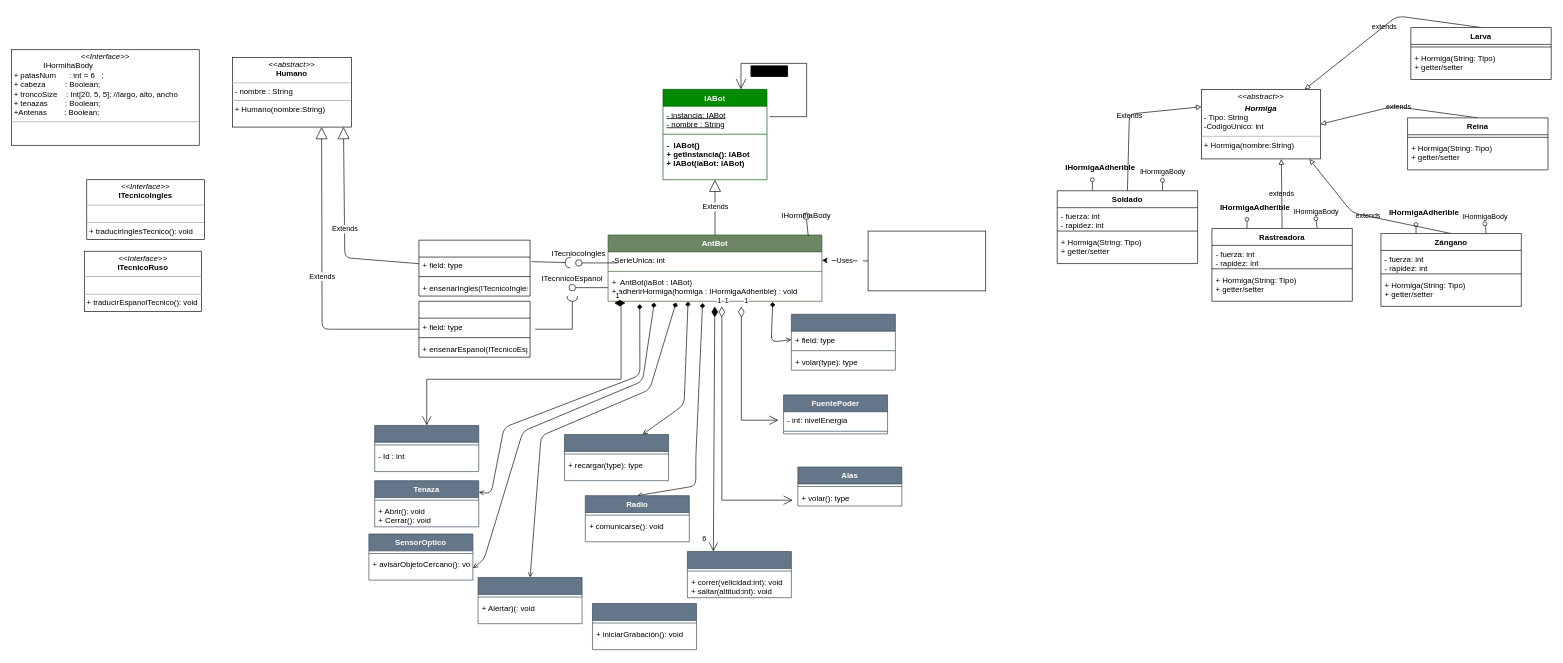
The diagram is 1563 pixels wide and 663 high, and some of its shapes have lost their labels. The shapes that lost their labels are listed below. From the top down, each one's box as (x1, y1, x2, y2) in pixels, then its label:
(418, 240, 530, 296): ExpertoIngles
(867, 230, 986, 291): <<Interface>> IHormigaAdherible
(418, 301, 530, 357): ExpertoEspanol
(791, 314, 895, 370): CircuitoAnillado
(374, 425, 479, 472): Procesador
(564, 434, 669, 481): CircuitoCarga
(687, 551, 791, 598): Pata
(477, 577, 582, 624): Antena
(592, 603, 696, 650): Camara
